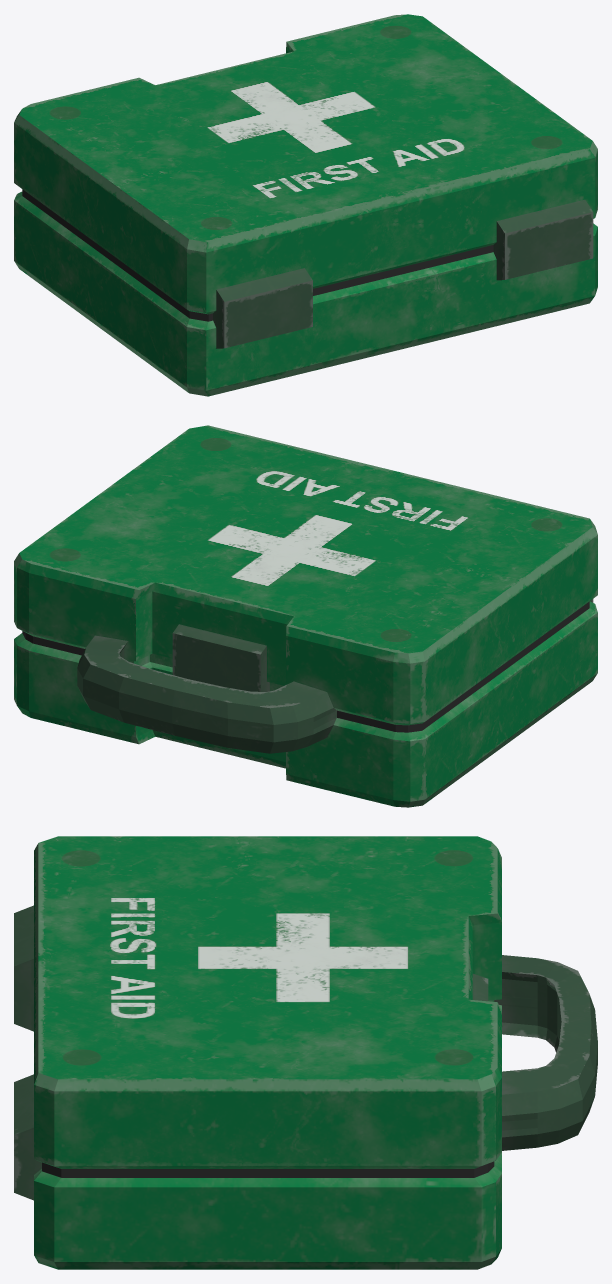
File: First Aid Box.fbx
The picture shows the model from 3 angles, top to bottom: view 1: azimuth 30°, elevation 25°; view 2: azimuth 150°, elevation 25°; view 3: azimuth 270°, elevation 25°; orthographic projection. The views are drawn at different scales.
Visible parts, largest first — view 1: First Aid Kit; view 2: First Aid Kit; view 3: First Aid Kit.
Boxes of the visible parts, box(x1,y1,x2,y2) form: First Aid Kit: box(14, 14, 597, 396); First Aid Kit: box(14, 425, 597, 807); First Aid Kit: box(14, 836, 597, 1269).
Size of the model in its own units: 41.19 by 14.77 by 41.08.
Materials: 1 (1 with a texture image).
